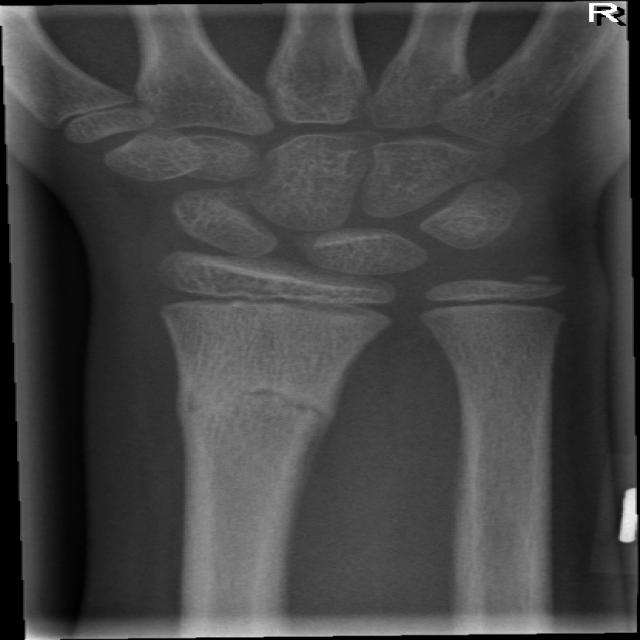radius fracture: (156, 362, 388, 479)
